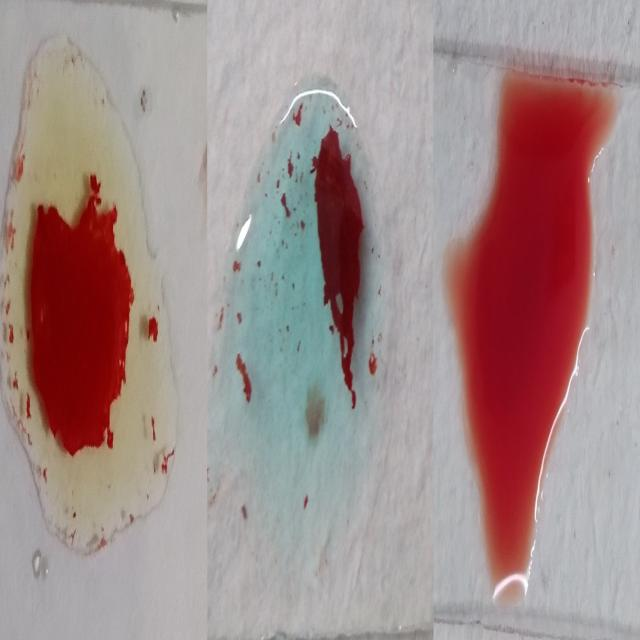A: (213, 74, 380, 528)
B: (3, 34, 168, 552)
